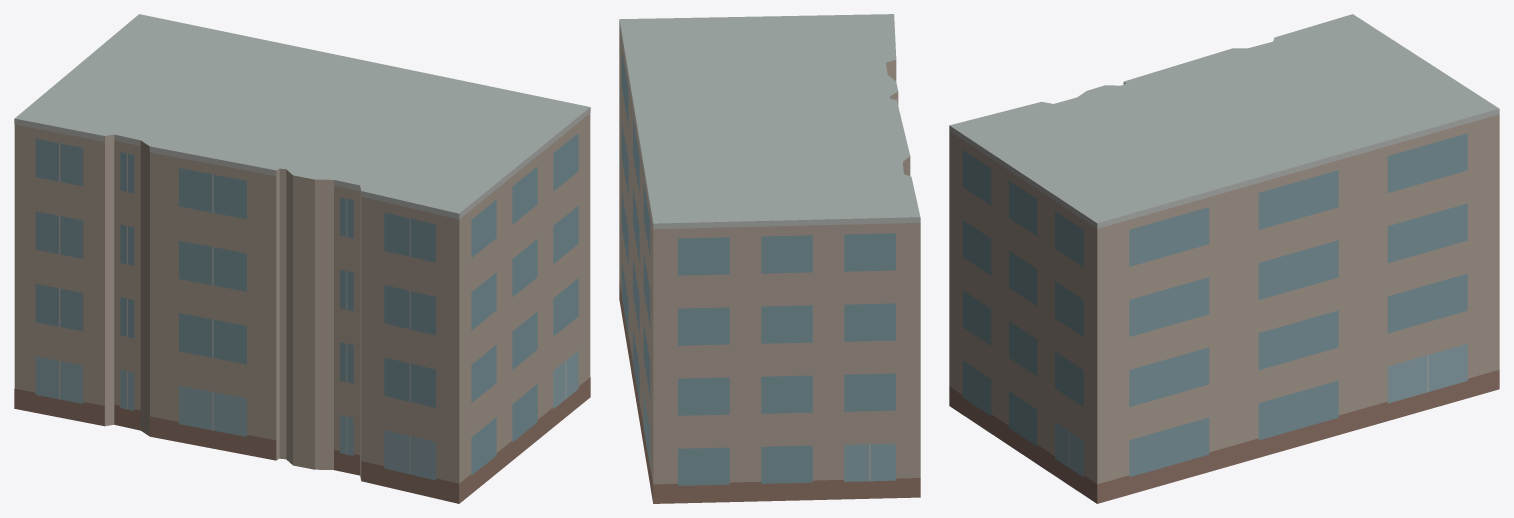
Rendered from survey-upis-32563519.glb.
The picture shows the model from 3 angles, left to right: view 1: azimuth 30°, elevation 25°; view 2: azimuth 150°, elevation 25°; view 3: azimuth 270°, elevation 25°; orthographic projection. The views are drawn at different scales.
Parts seen in each view (by area): view 1: survey-upis-32563519.tmp; view 2: survey-upis-32563519.tmp; view 3: survey-upis-32563519.tmp.
Part boxes in pixels (box(x1,y1,x2,y2)): survey-upis-32563519.tmp: box(14, 14, 590, 503); survey-upis-32563519.tmp: box(619, 14, 920, 503); survey-upis-32563519.tmp: box(949, 14, 1499, 503).
Bounding box in the file's own units: 19.54 × 12.2 × 21.7.
